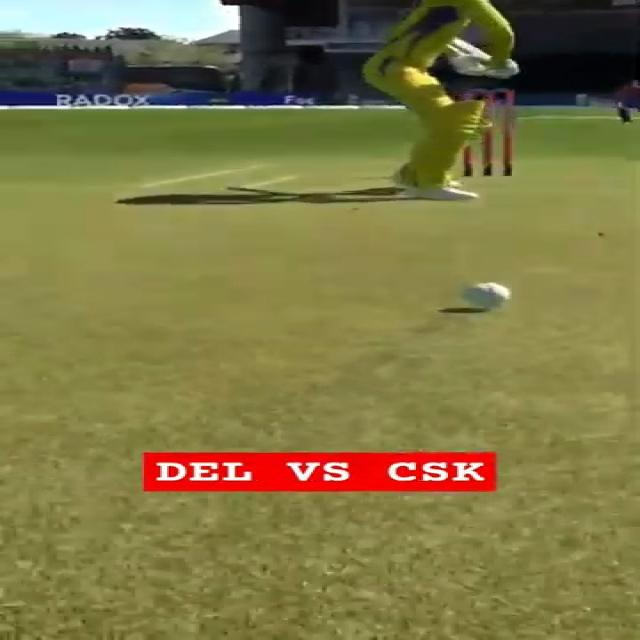ball: (462, 283, 510, 308)
